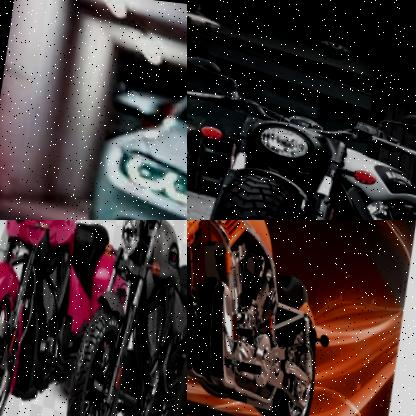bike: (187, 45, 416, 220), (187, 220, 360, 416), (44, 220, 187, 416), (0, 220, 120, 416), (143, 220, 187, 416)
car: (71, 14, 187, 220)
